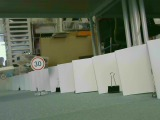speed_30: (29, 55, 45, 72)
